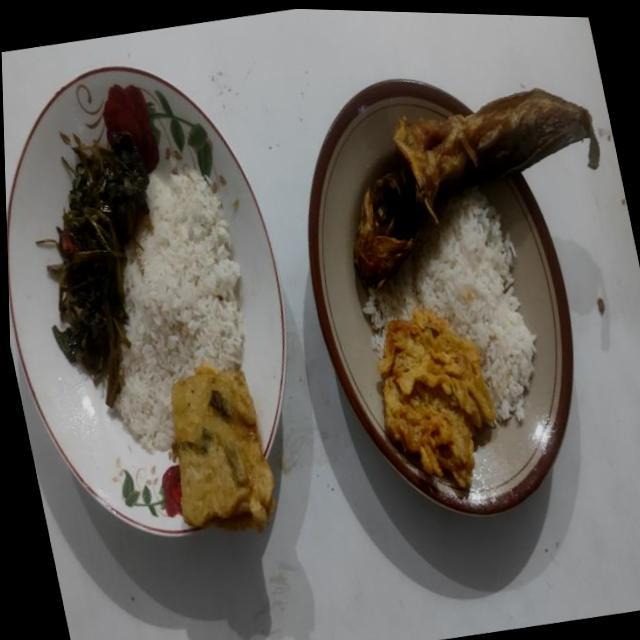nasi_putih: (362, 188, 536, 422), (114, 170, 244, 451)
tumis_kangkung: (37, 132, 148, 406)
